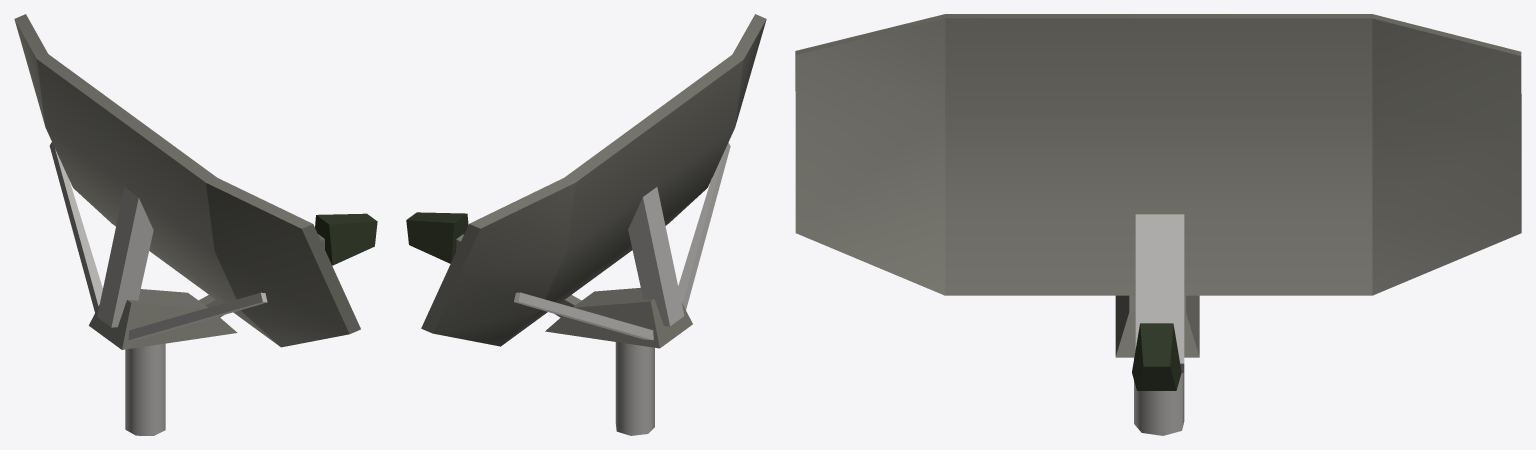
The model's file is tower_radar1.fbx.
3 renders of one model, left to right at view 1: azimuth 30°, elevation 25°; view 2: azimuth 150°, elevation 25°; view 3: azimuth 270°, elevation 25°, orthographic. The views are drawn at different scales.
Parts seen in each view (by area): view 1: tower_radar1; view 2: tower_radar1; view 3: tower_radar1.
Part boxes in pixels (x1=…): tower_radar1: x1=14, y1=14, x2=377, y2=435; tower_radar1: x1=406, y1=14, x2=766, y2=435; tower_radar1: x1=795, y1=14, x2=1521, y2=435.
Size of the model in its own units: 160 by 180 by 297.
